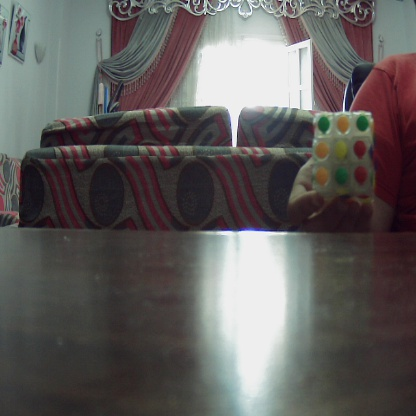Rubix Cube: (312, 112, 372, 197)
